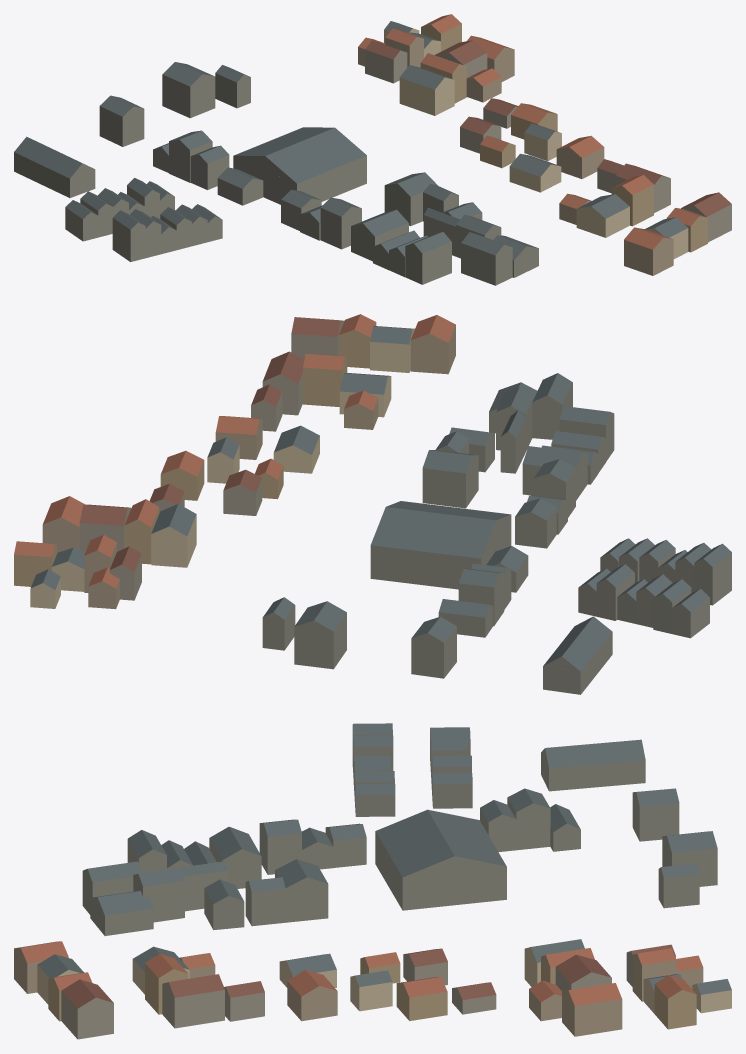
The picture shows the model from 3 angles, top to bottom: view 1: azimuth 30°, elevation 25°; view 2: azimuth 150°, elevation 25°; view 3: azimuth 270°, elevation 25°; orthographic projection. The views are drawn at different scales.
Parts seen in each view (by area): view 1: C_-4_-2; view 2: C_-4_-2; view 3: C_-4_-2.
Boxes of the visible parts, left/top/right/bottom form: C_-4_-2: left=14, top=14, right=731, bottom=285; C_-4_-2: left=14, top=314, right=731, bottom=694; C_-4_-2: left=14, top=723, right=731, bottom=1039.
Size of the model in its own units: 191 by 15.37 by 204.
